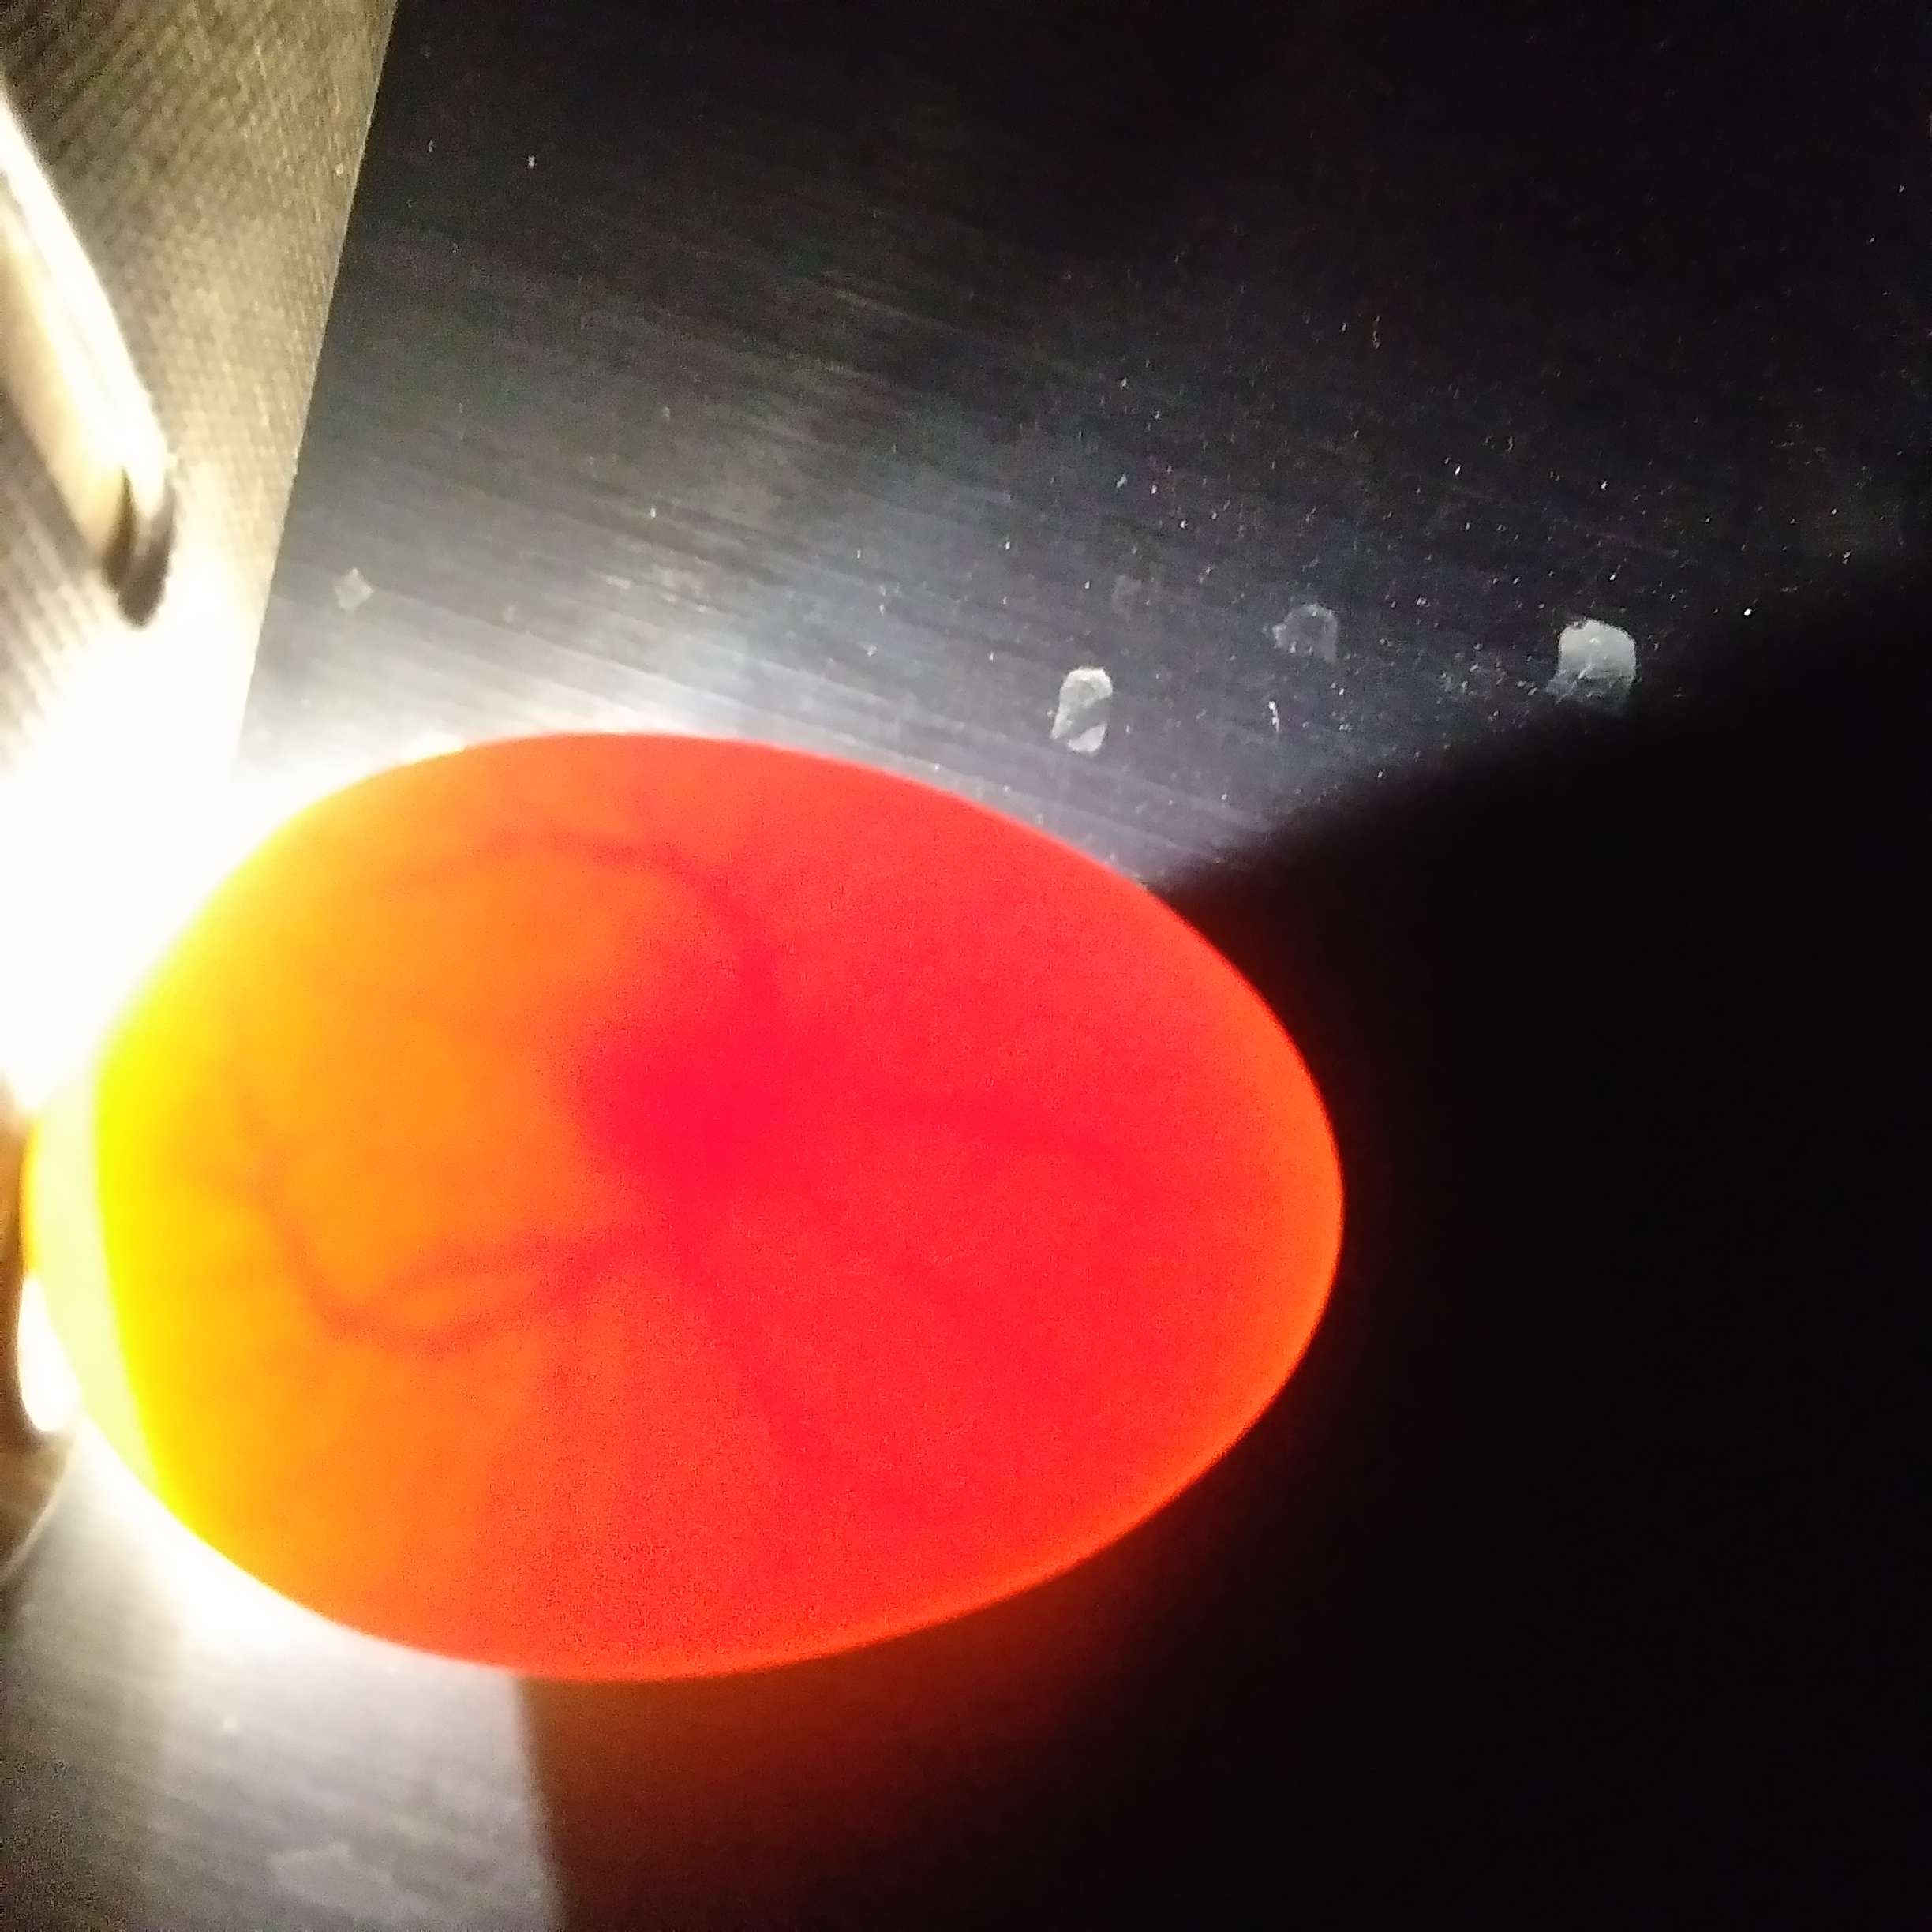bloodcell: (633, 1322, 1039, 1534), (456, 789, 925, 962), (251, 1214, 522, 1479), (876, 1035, 1157, 1274)
embryo: (545, 1007, 819, 1230)
